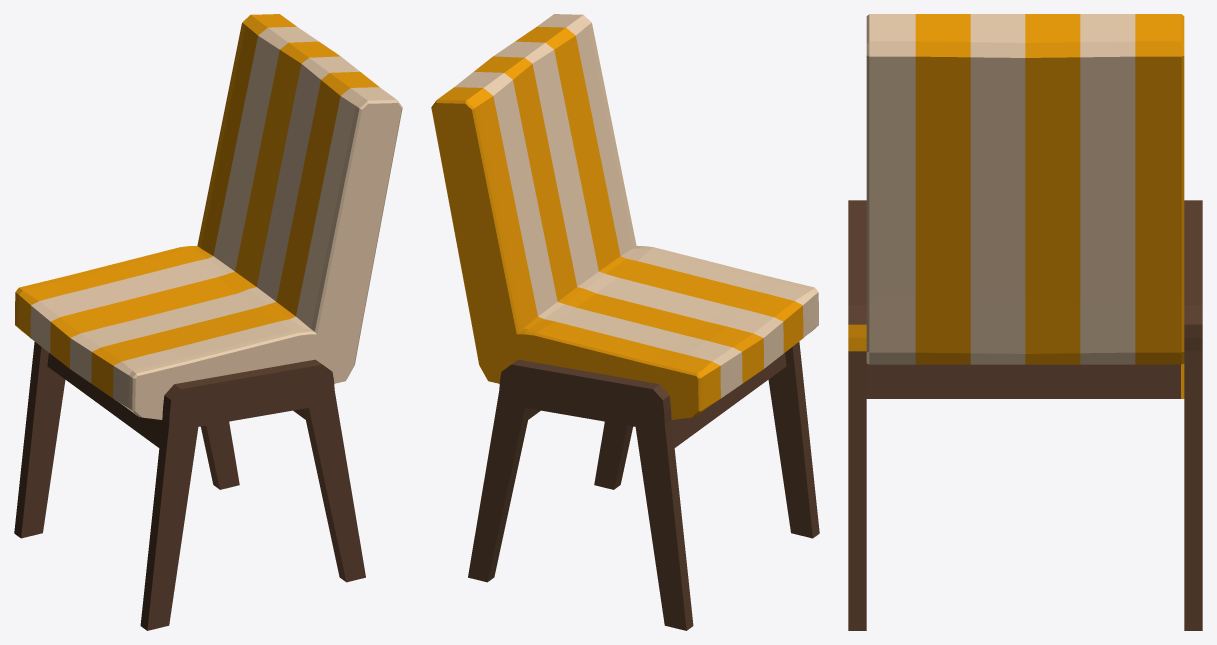
File: 70sChair.fbx
3 views of the same model, side by side, from view 1: azimuth 30°, elevation 25°; view 2: azimuth 150°, elevation 25°; view 3: azimuth 270°, elevation 25° (orthographic). The views are drawn at different scales.
Parts seen in each view (by area): view 1: 70s.Chair; view 2: 70s.Chair; view 3: 70s.Chair.
Part boxes in pixels (x1=…): 70s.Chair: x1=14, y1=14, x2=402, y2=630; 70s.Chair: x1=431, y1=14, x2=819, y2=630; 70s.Chair: x1=848, y1=14, x2=1202, y2=630.
Bounding box in the file's own units: 46.74 × 75.76 × 39.
